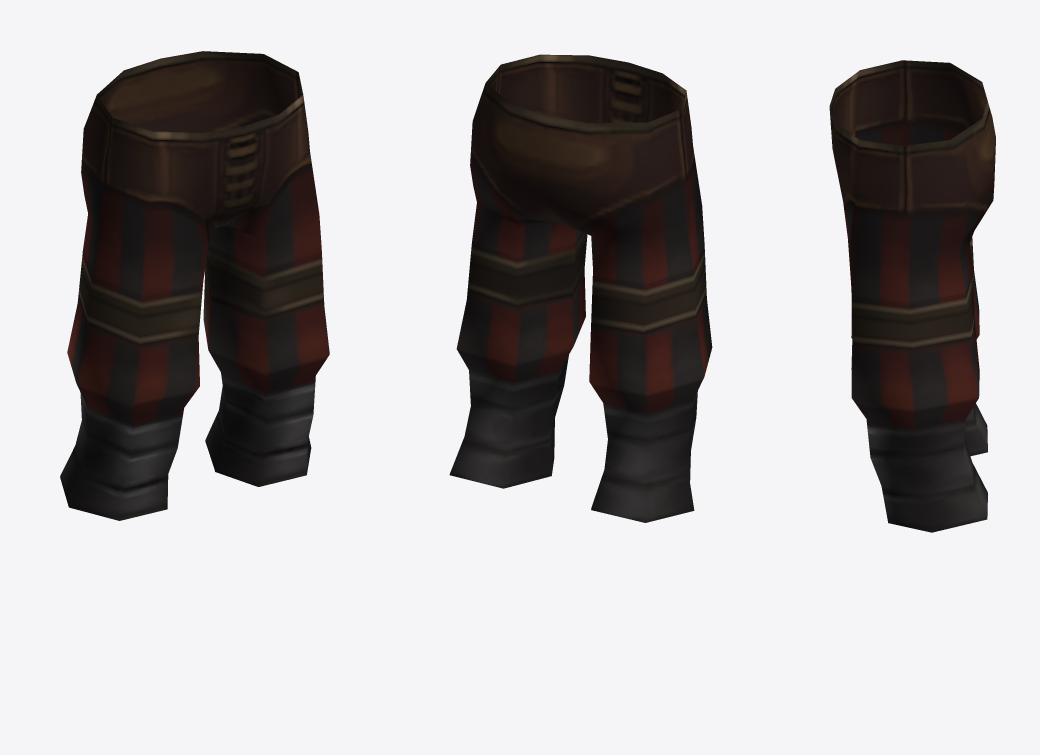
File: hum_hunter_01_d4b9f23c.glb
3 renders of one model, left to right at view 1: azimuth 30°, elevation 25°; view 2: azimuth 150°, elevation 25°; view 3: azimuth 270°, elevation 25°, orthographic. The views are drawn at different scales.
Bounding box in the file's own units: 0.823 × 1.43 × 0.4987.
Materials: 1 (1 with a texture image).
